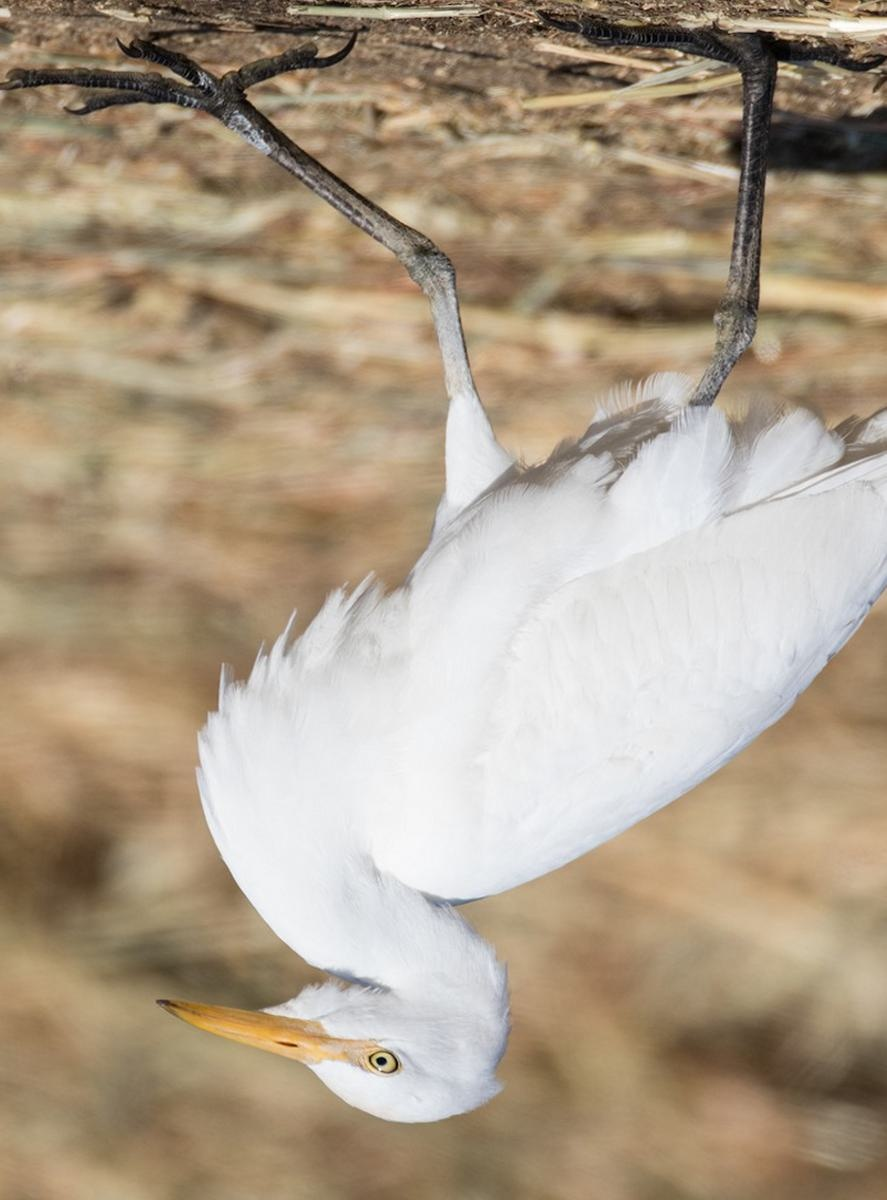egret: (141, 1, 887, 1142)
